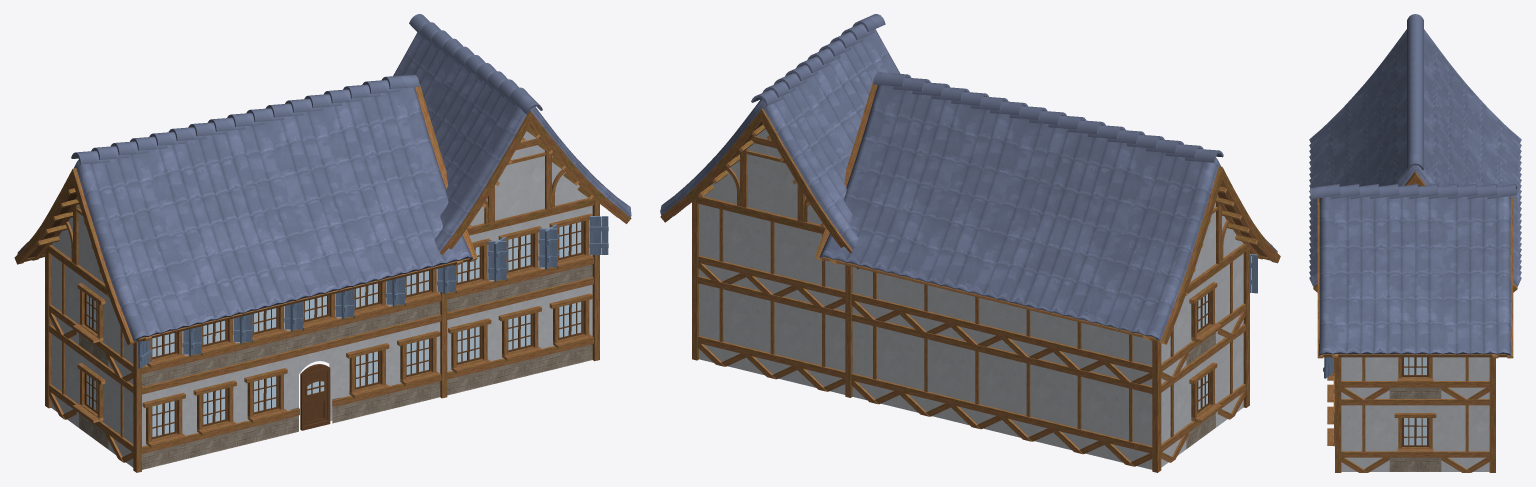
File: lab.glb
3 views of the same model, side by side, from view 1: azimuth 30°, elevation 25°; view 2: azimuth 150°, elevation 25°; view 3: azimuth 270°, elevation 25° (orthographic). The views are drawn at different scales.
Parts seen in each view (by area): view 1: Roof_RoundTiles_6x12, Wall_Plaster_Window_Wide_Flat, Window_Wide_Flat1, WindowShutters_Wide_Flat_Open, Roof_Front_Brick6; view 2: Roof_RoundTiles_6x12, Wall_Plaster_Window_Wide_Flat, Window_Wide_Flat1, Roof_Front_Brick6; view 3: Roof_RoundTiles_6x12, Wall_Plaster_Window_Wide_Flat, Window_Wide_Flat1.
Part boxes in pixels (x1,y1,x2,y2): Roof_RoundTiles_6x12: (17, 14, 631, 341); Wall_Plaster_Window_Wide_Flat: (14, 84, 631, 469); Window_Wide_Flat1: (37, 127, 599, 472); WindowShutters_Wide_Flat_Open: (138, 216, 608, 368); Roof_Front_Brick6: (52, 131, 587, 283); Roof_RoundTiles_6x12: (660, 14, 1277, 340); Wall_Plaster_Window_Wide_Flat: (660, 81, 1280, 469); Window_Wide_Flat1: (692, 124, 1257, 472); Roof_Front_Brick6: (704, 129, 1242, 281); Roof_RoundTiles_6x12: (1309, 14, 1521, 355); Wall_Plaster_Window_Wide_Flat: (1313, 171, 1517, 472); Window_Wide_Flat1: (1327, 357, 1495, 472).
Size of the model in its own units: 19.95 by 10.89 by 8.25.
Materials: 7 (6 with a texture image).
